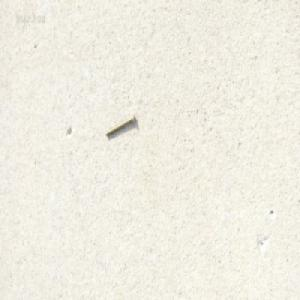Bolt: (104, 113, 135, 137)
